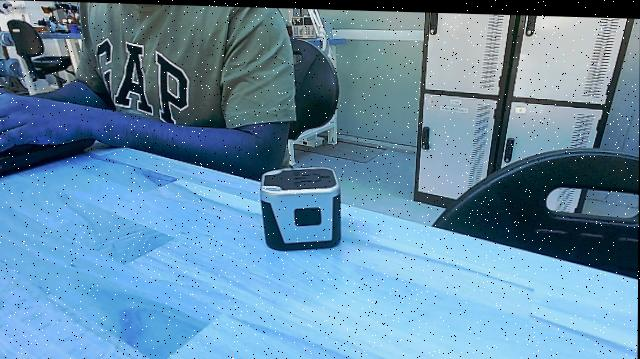adapter: (257, 165, 345, 251)
